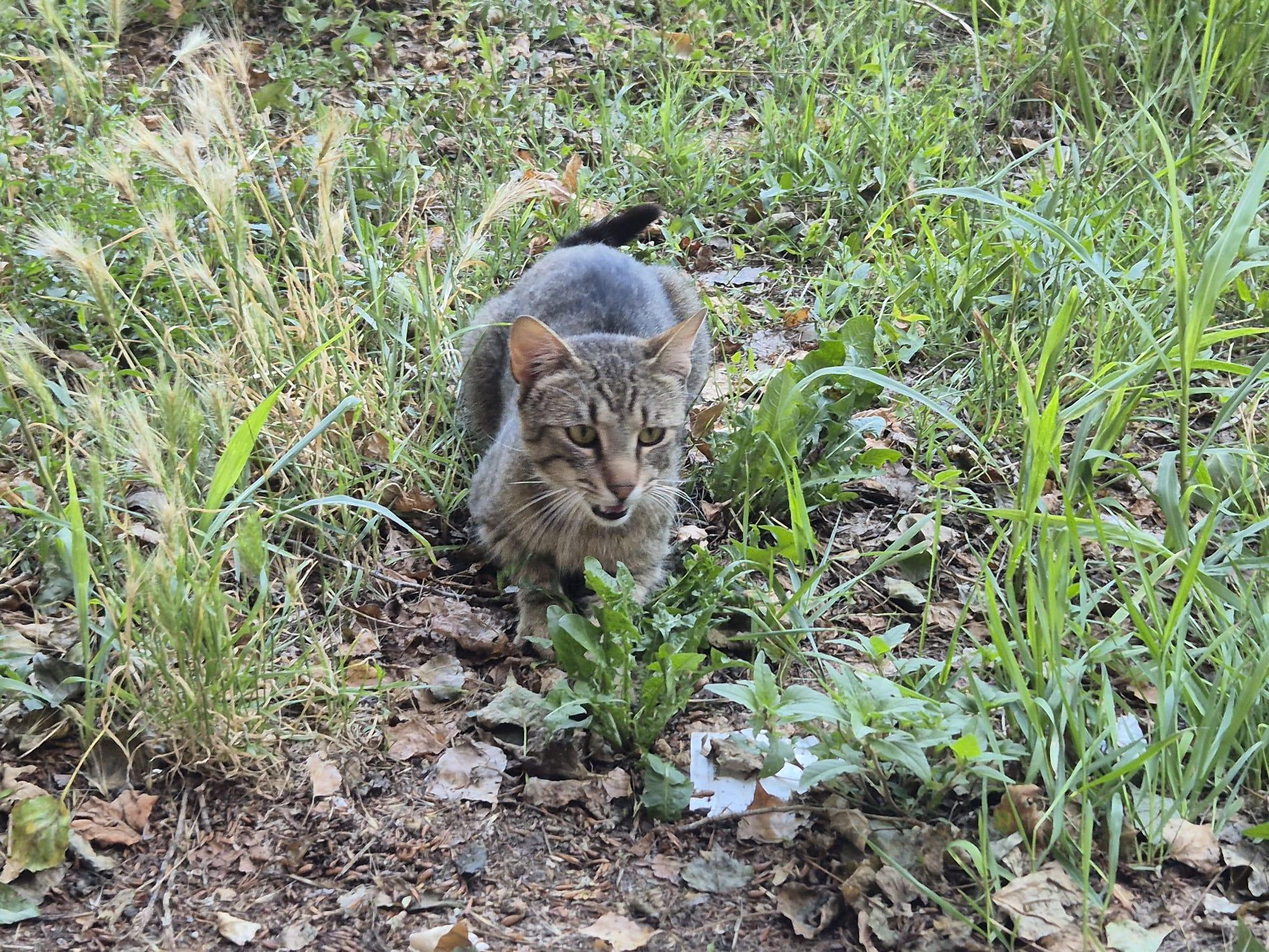macka: (461, 200, 714, 654)
